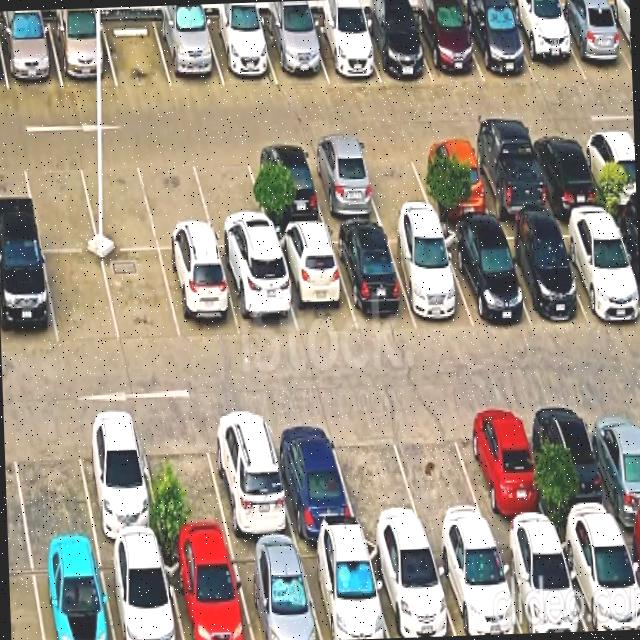empty: (388, 406, 490, 536), (327, 411, 424, 535), (138, 416, 230, 544), (9, 418, 96, 549), (190, 147, 271, 247), (78, 153, 158, 250), (138, 151, 215, 249), (21, 153, 98, 250), (102, 249, 180, 342), (43, 252, 119, 345), (355, 142, 434, 219), (101, 17, 171, 87)
occupied: (455, 403, 551, 532), (203, 409, 295, 541), (265, 413, 358, 538), (529, 400, 618, 529), (73, 417, 162, 545), (492, 532, 587, 633), (428, 534, 522, 635), (439, 225, 531, 327), (494, 223, 586, 324), (297, 539, 389, 640), (553, 214, 640, 319), (364, 539, 456, 638), (229, 543, 322, 640), (272, 229, 356, 336), (556, 525, 640, 631), (384, 227, 473, 327), (329, 227, 415, 330), (162, 544, 252, 640), (98, 545, 182, 640), (30, 548, 113, 640), (159, 249, 240, 340), (583, 399, 640, 524), (218, 248, 298, 336), (466, 136, 550, 218), (246, 145, 325, 228), (303, 143, 381, 223), (506, 6, 586, 84), (411, 139, 491, 216), (527, 131, 603, 210), (553, 6, 632, 80), (0, 248, 57, 347), (460, 7, 535, 82), (411, 7, 483, 84), (358, 12, 432, 82), (204, 17, 277, 86), (153, 17, 224, 87), (48, 19, 117, 88), (307, 17, 380, 82), (260, 18, 327, 84), (578, 129, 636, 205), (0, 21, 62, 90), (609, 213, 639, 297), (604, 5, 631, 68), (619, 524, 640, 591)
